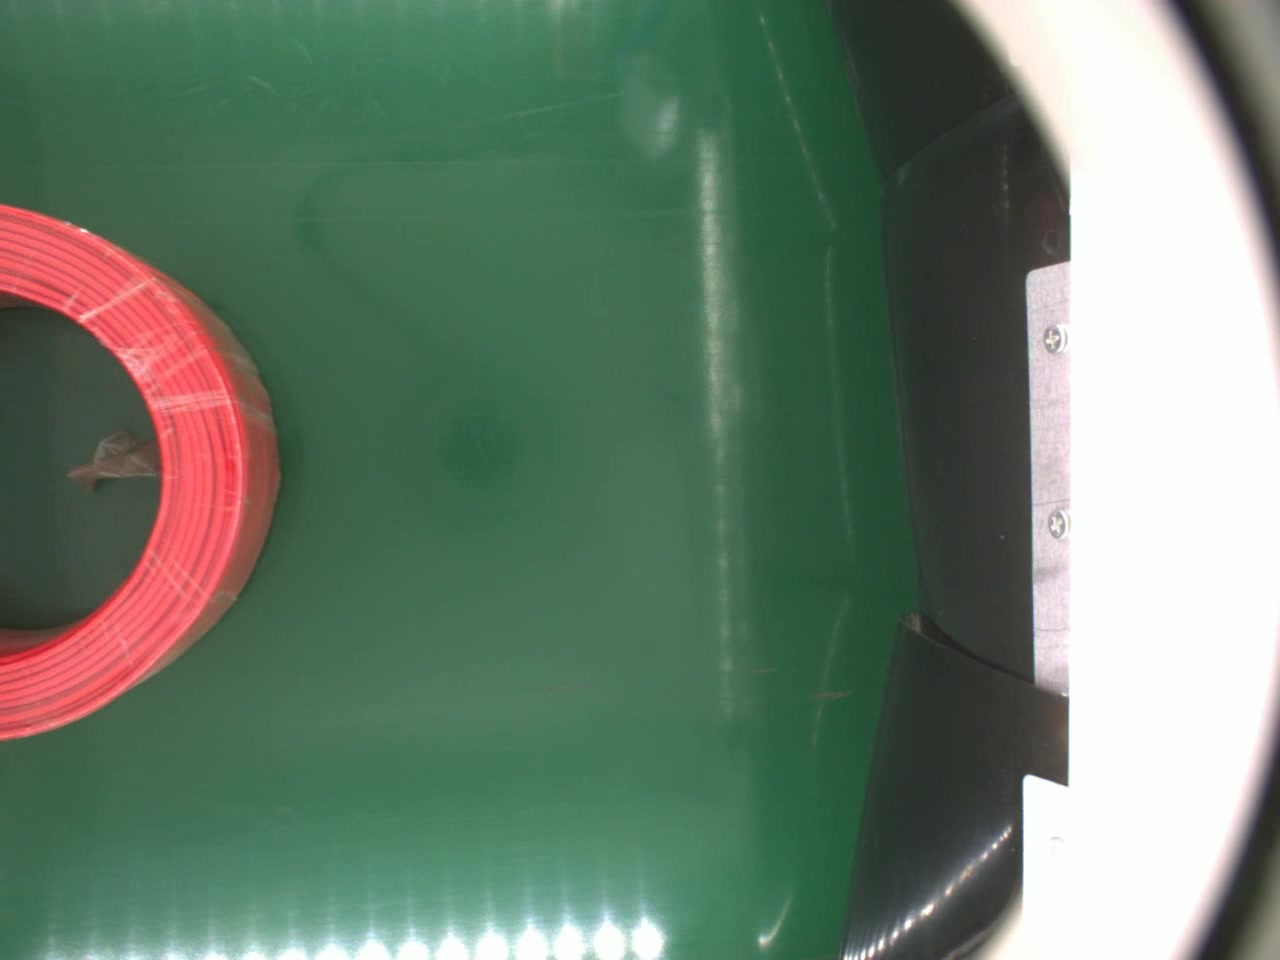red: (0, 202, 281, 741)
